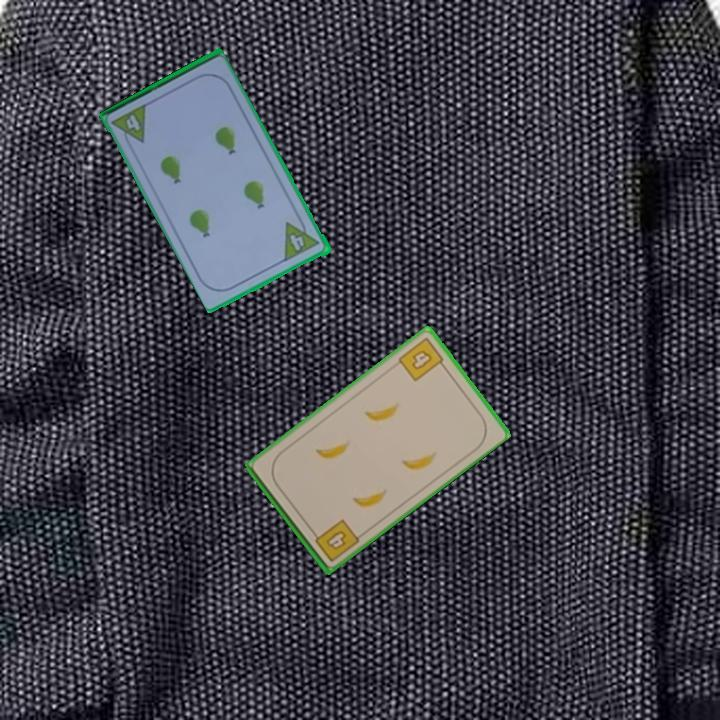4b: (394, 333, 449, 384), (308, 515, 362, 565)
4p: (281, 213, 323, 264), (108, 101, 149, 152)
